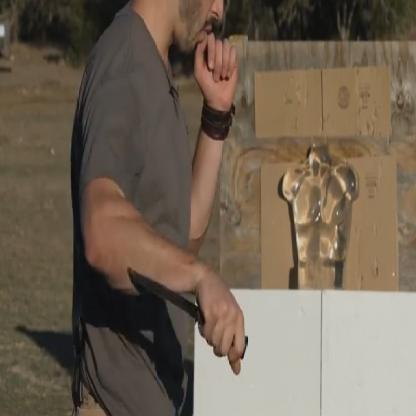knife: (122, 246, 256, 377)
